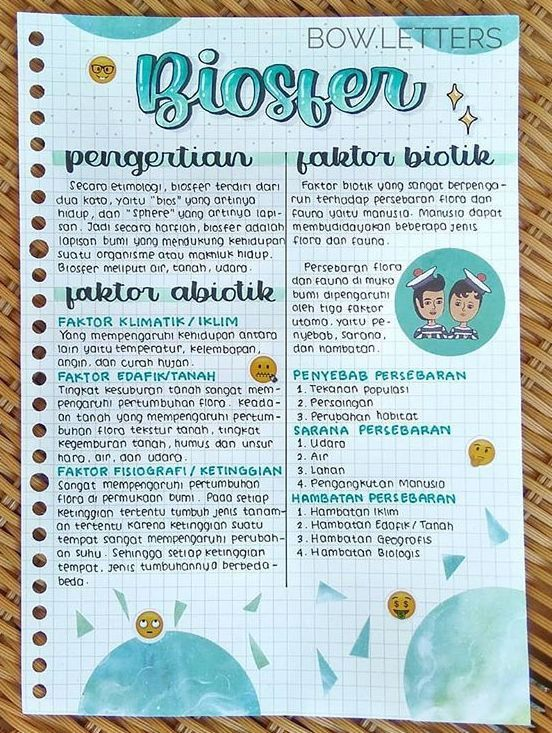page: (23, 17, 519, 715)
